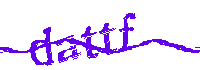a: (57, 35, 79, 62)
d: (29, 26, 56, 68)
f: (121, 8, 136, 54)
t: (81, 22, 100, 60), (99, 18, 118, 56)
